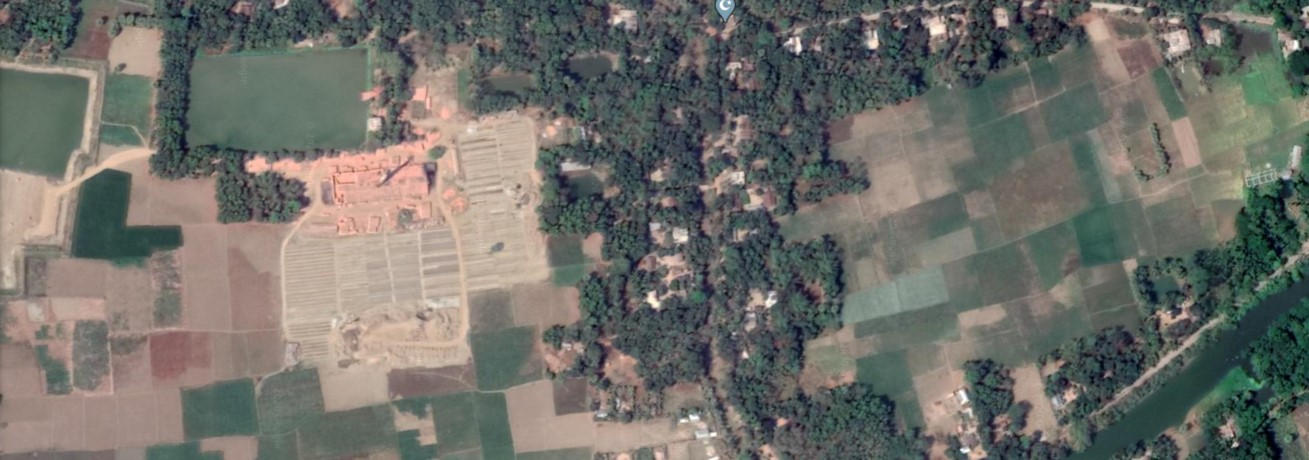kiln: (326, 161, 433, 212)
